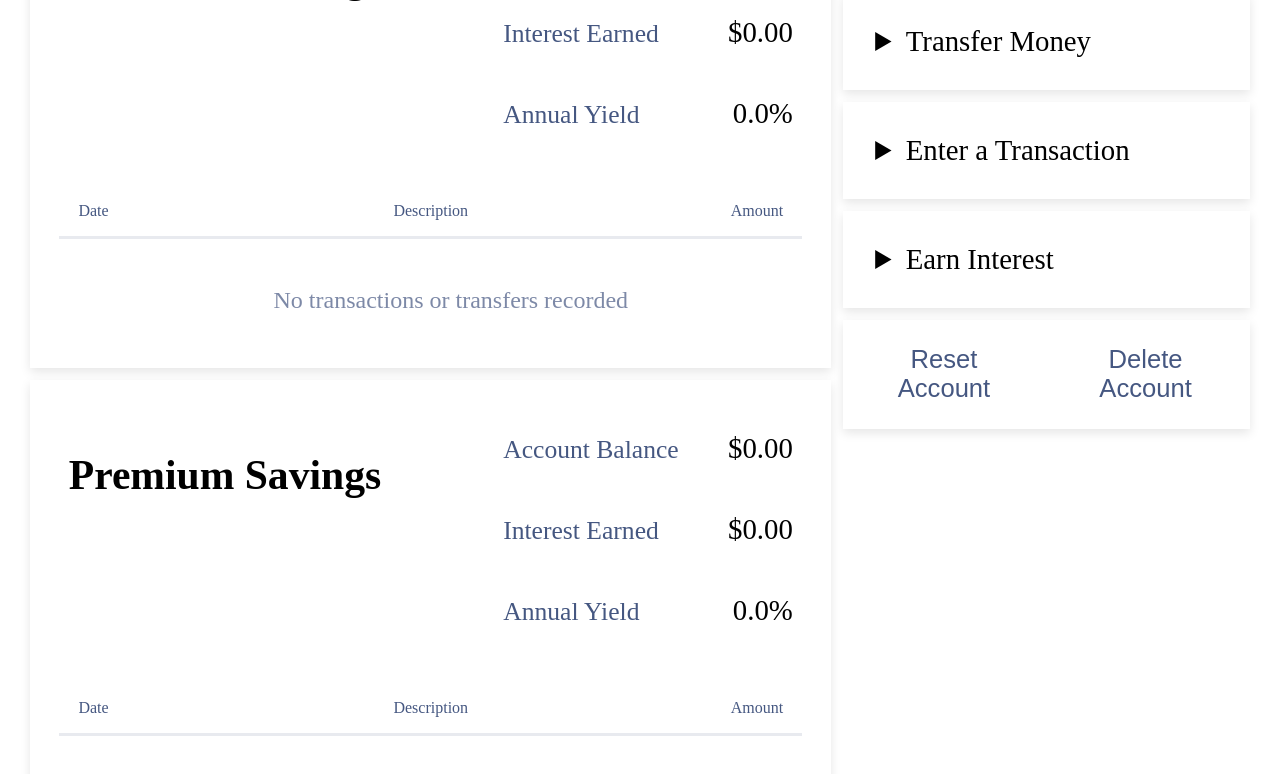
Account page › reset modal should show with message
(page scrolled)
Click the button "Reset Account" at coordinates (944, 374), box [869, 345, 1019, 403]
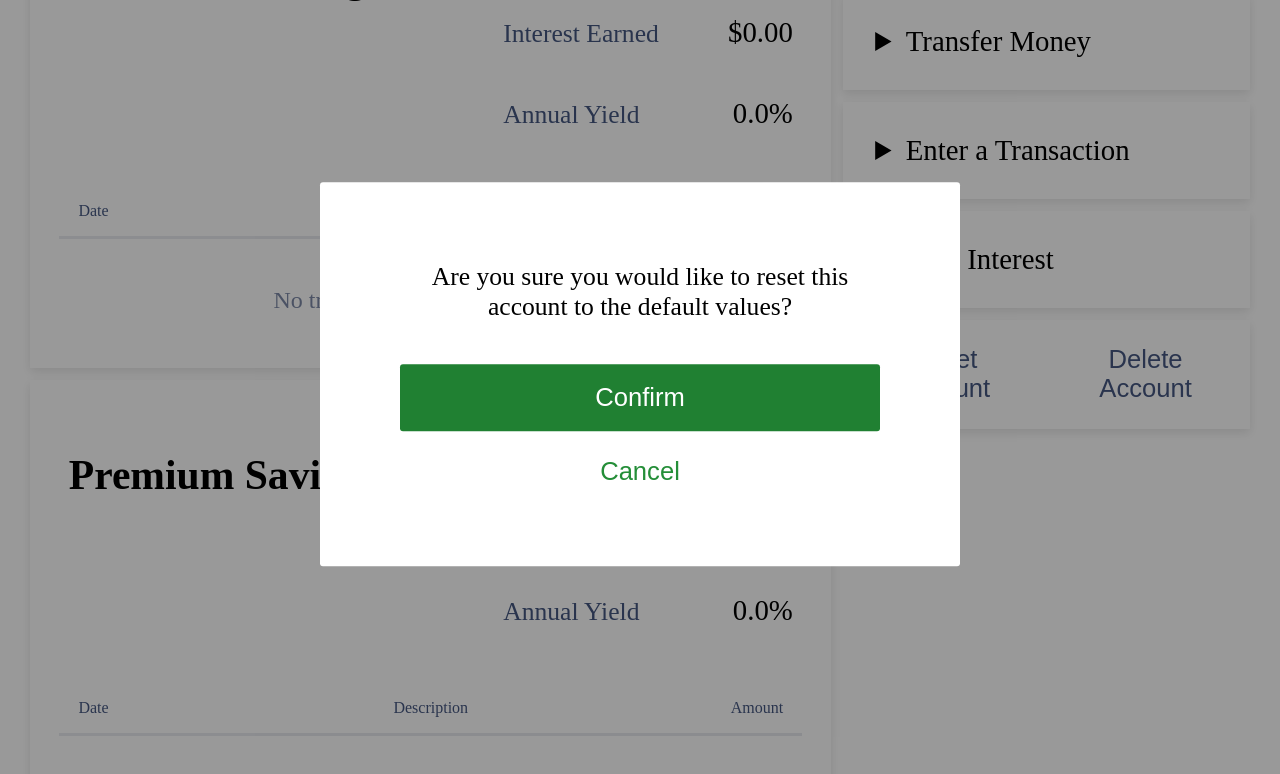
Result: the text "Are you sure you would like to reset this account to the default values?" is shown at [400, 262, 880, 322]
